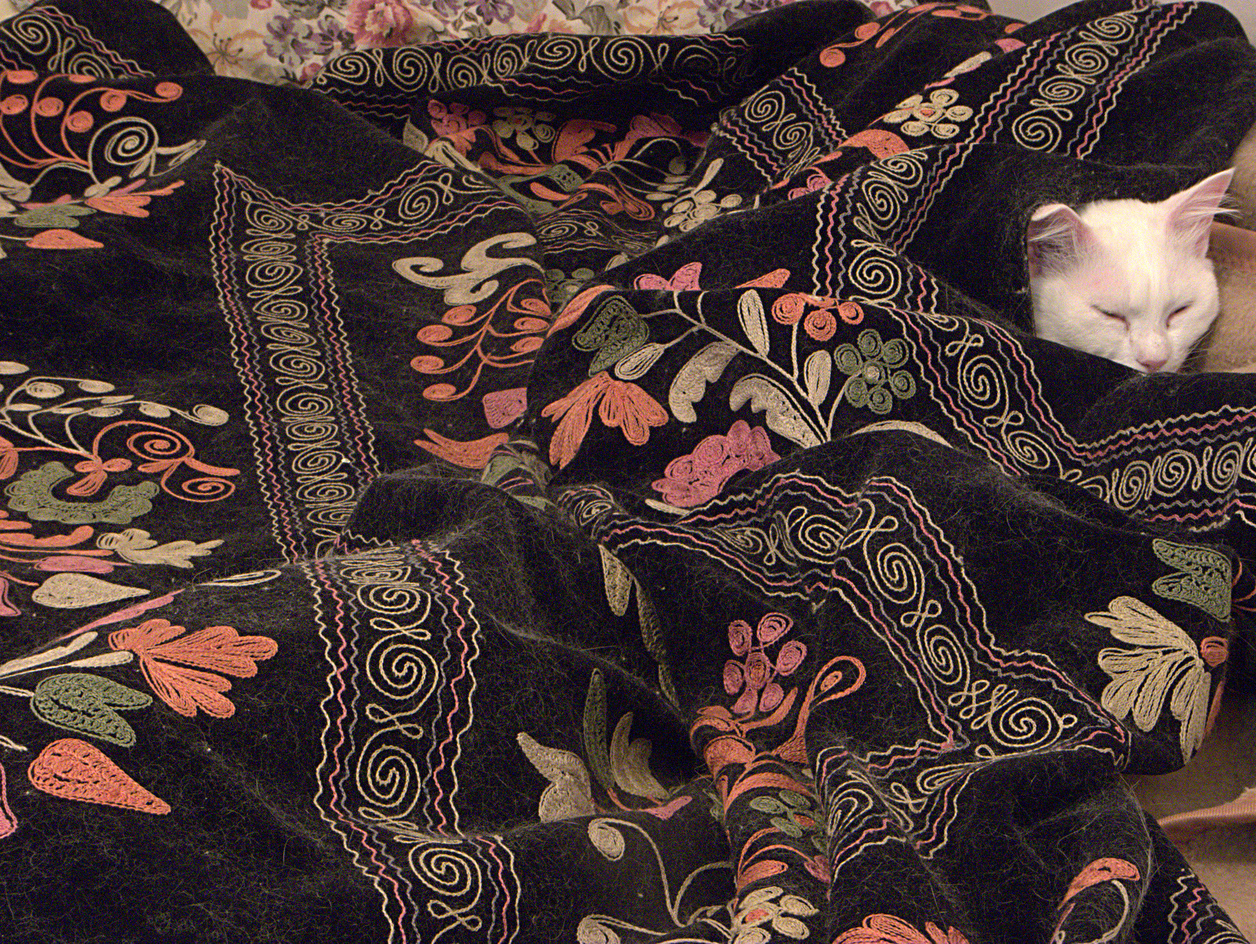cat: (1025, 169, 1255, 374)
